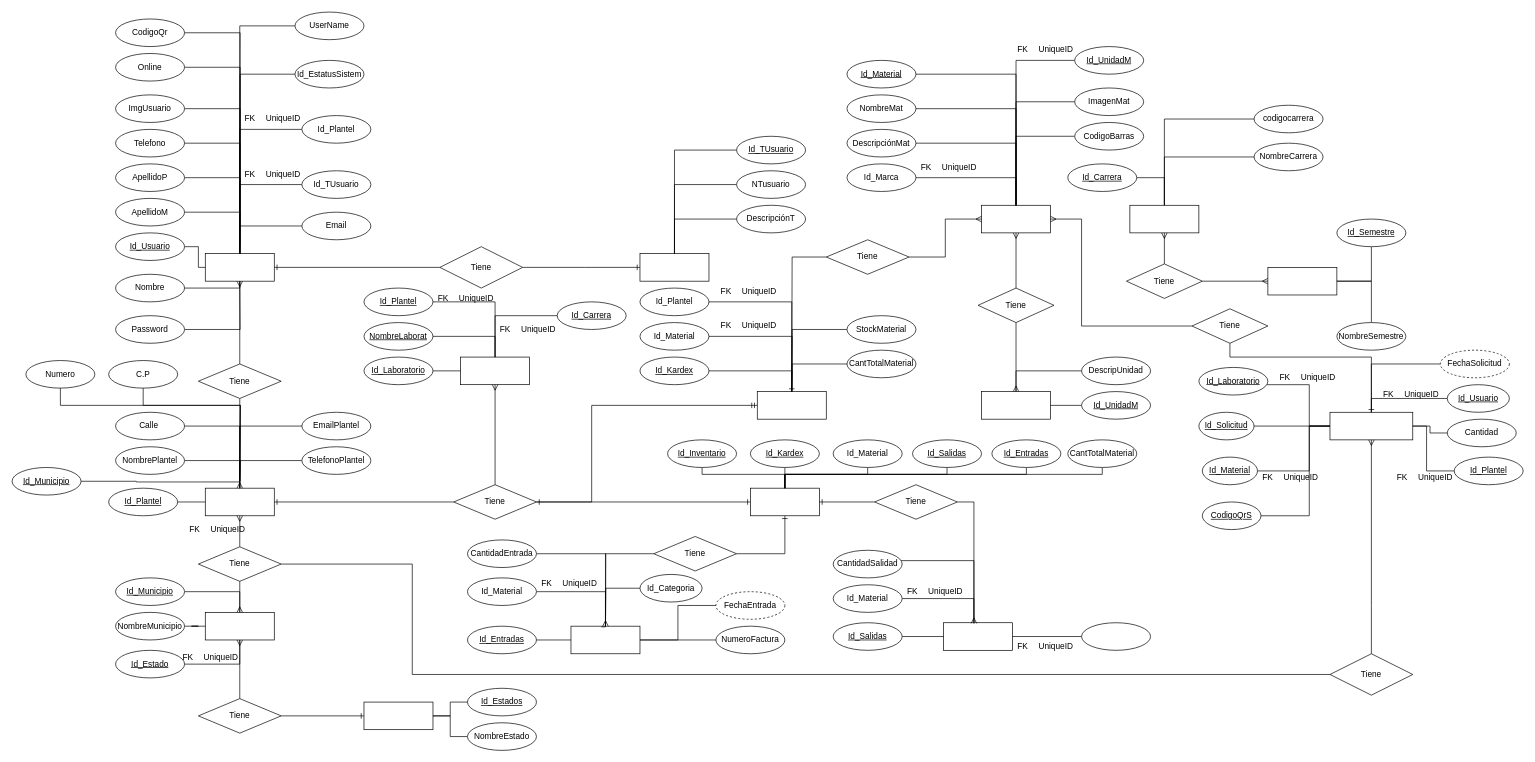
Some shapes in this 1535 by 762 pixel diagram are drawn without their labels. Here are the shapes that lost their labels. From the top down, the box of each, then its label:
(981, 205, 1051, 233): Materiales
(1129, 205, 1199, 233): Carrera
(205, 253, 274, 281): Usuario
(639, 253, 709, 281): TUsuario
(1267, 267, 1337, 295): Semestre
(460, 356, 530, 385): Laboratorios
(757, 391, 826, 419): Kardex
(981, 391, 1051, 419): UnidadMedida
(1329, 412, 1413, 440): SolicitudMateriales
(205, 487, 274, 516): Plantel
(750, 487, 819, 516): Inventario
(205, 612, 274, 640): Municipios
(570, 625, 640, 654): Entradas
(943, 622, 1013, 650): Salidas
(1081, 622, 1151, 650): Id_SBaja
(363, 701, 433, 730): Estados
